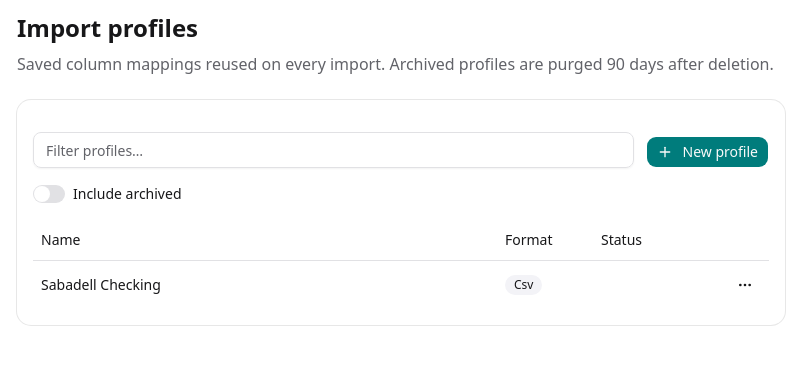
Test: ProfilesLayout › search filters rows
This screenshot has width=803, height=382.
expect the text "Sabadell Checking" is shown: met, box [33,260,497,308]
Type "zzznomatch" into the field with placeholder "Filter profiles…".
click(333, 150); type("zzznomatch")  # box [33,132,634,168]
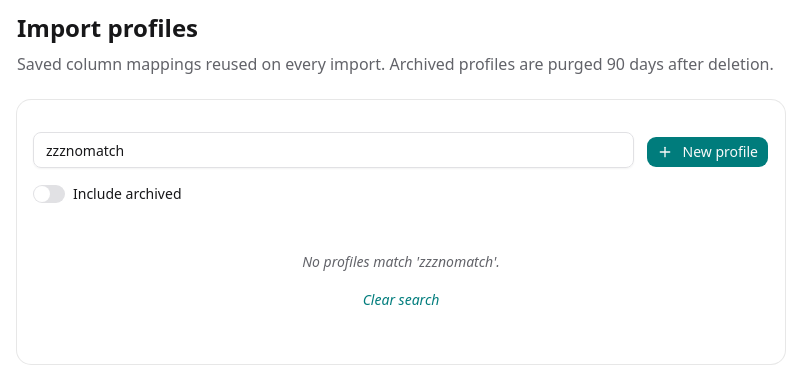
expect the text "No profiles match 'zzznomatch'." is shown: met, box [302,252,500,271]
